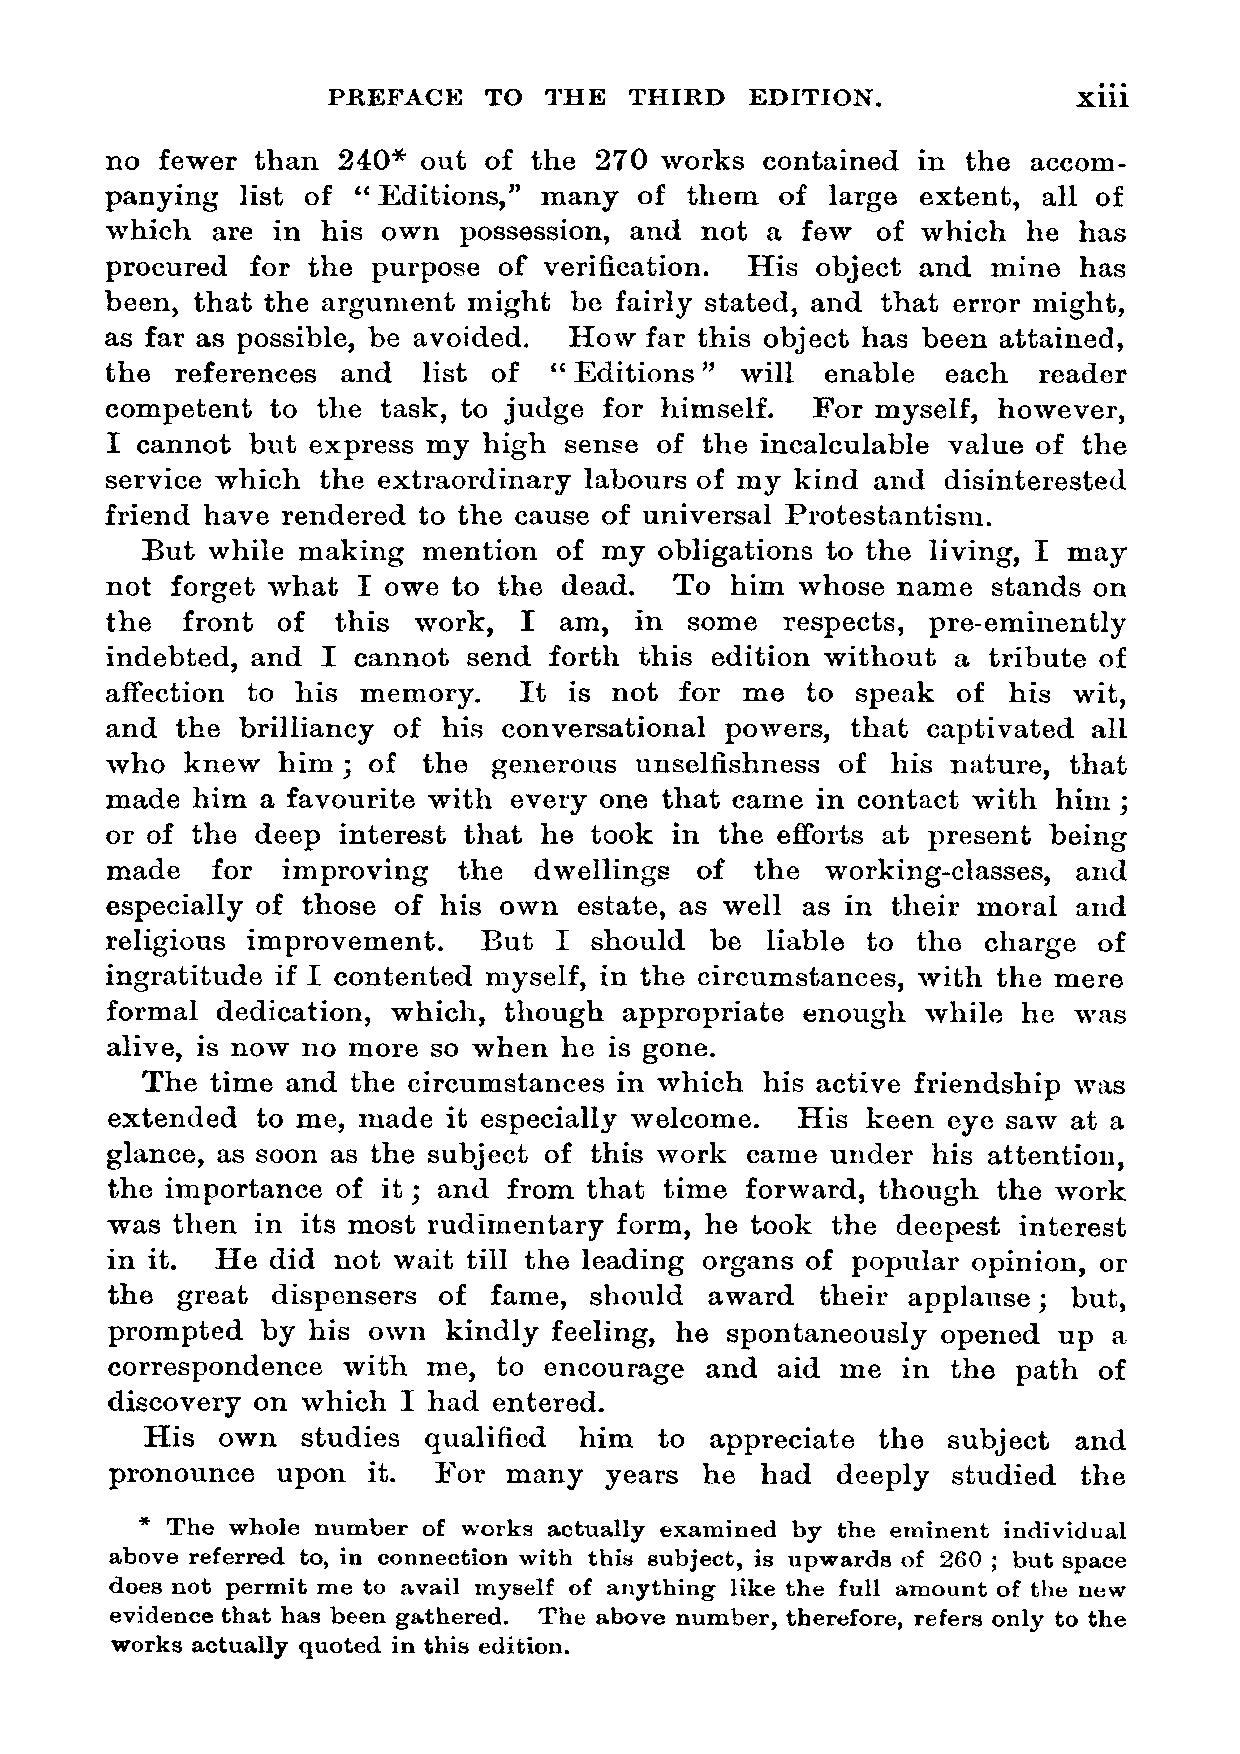content: (98, 138, 1134, 1663)
content_chapter: (326, 83, 880, 111)
content_pagenumber: (1074, 76, 1131, 117)
